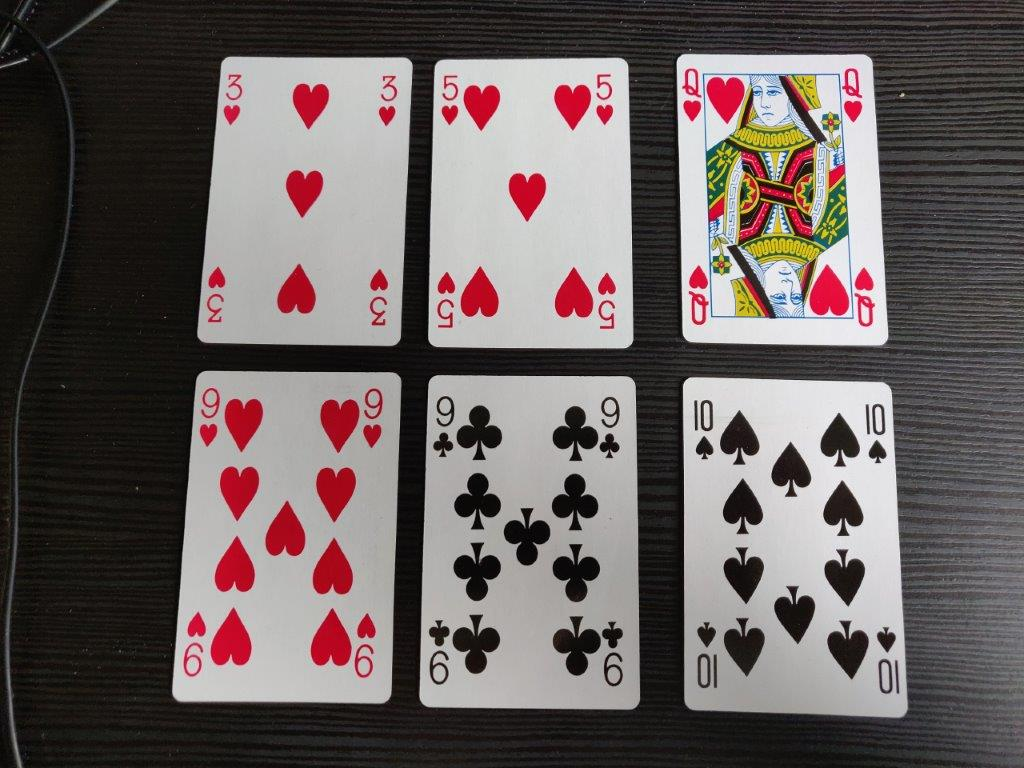10S: (857, 396, 891, 466), (688, 394, 718, 464)
3H: (220, 67, 247, 131), (376, 69, 398, 133)
5H: (592, 70, 617, 128), (439, 69, 460, 128)
9C: (597, 394, 623, 462), (431, 392, 456, 459)
9H: (359, 382, 389, 453), (195, 383, 222, 449)
QH: (836, 63, 866, 126), (678, 63, 706, 125)
